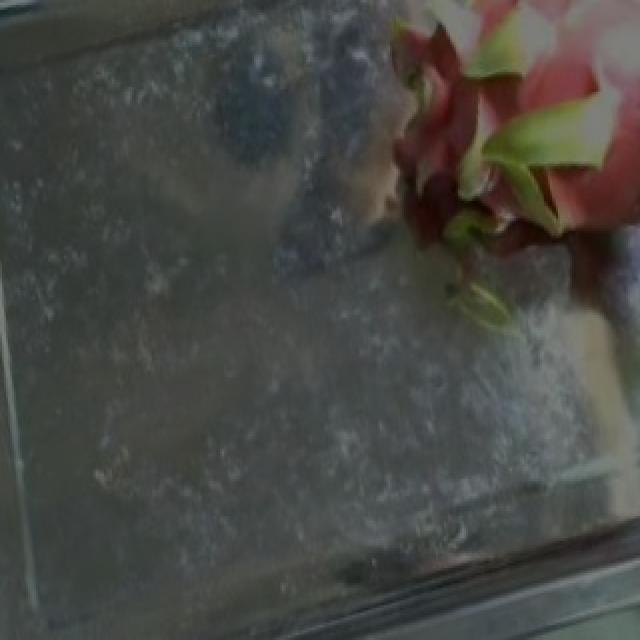fruit: (304, 0, 640, 387)
